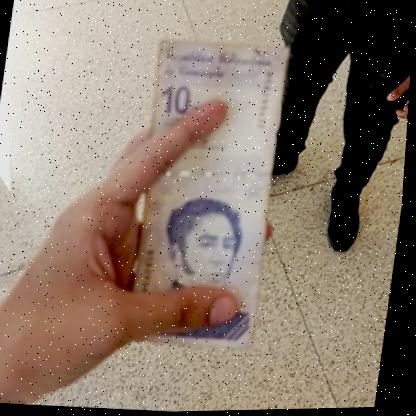ten-front-vef: (123, 38, 293, 355)
